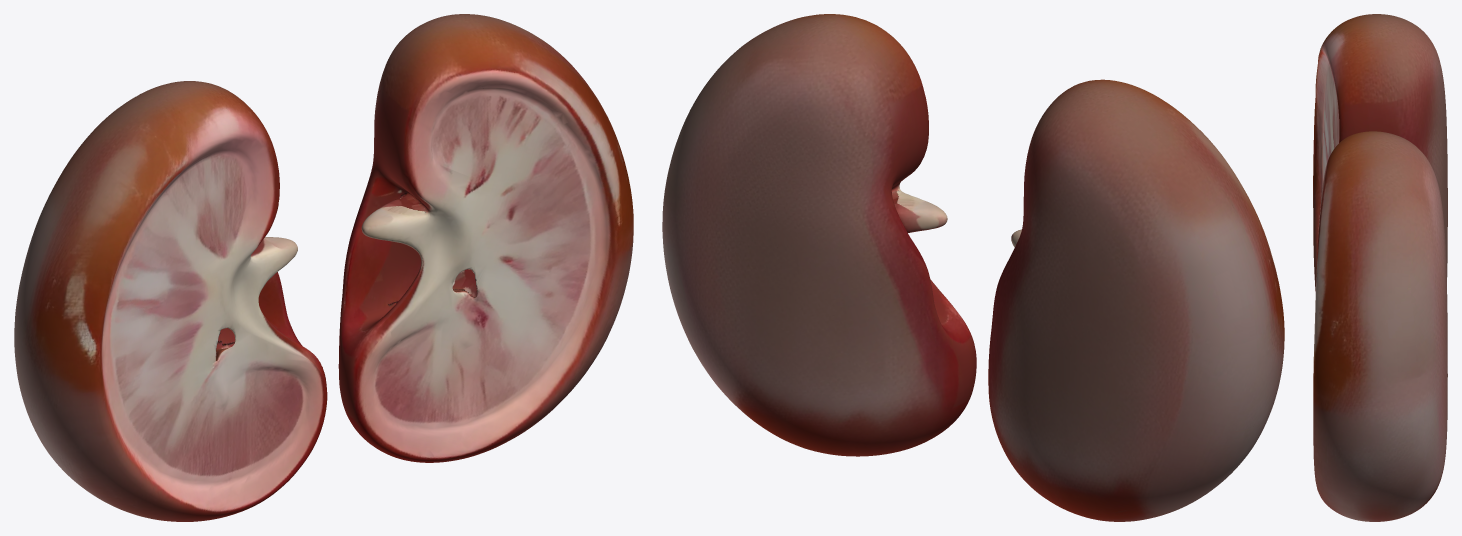
Rendered from vet_v2_organ_cow_kidneys.glb.
3 renders of one model, left to right at view 1: azimuth 30°, elevation 25°; view 2: azimuth 150°, elevation 25°; view 3: azimuth 270°, elevation 25°, orthographic. The views are drawn at different scales.
Parts seen in each view (by area): view 1: model; view 2: model; view 3: model.
Boxes of the visible parts, bbox=[...] form: model: bbox=[14, 14, 633, 521]; model: bbox=[662, 14, 1284, 521]; model: bbox=[1313, 14, 1447, 521].
Bounding box in the file's own units: 1.9 × 1.29 × 0.4235.
Materials: 1 (1 with a texture image).
